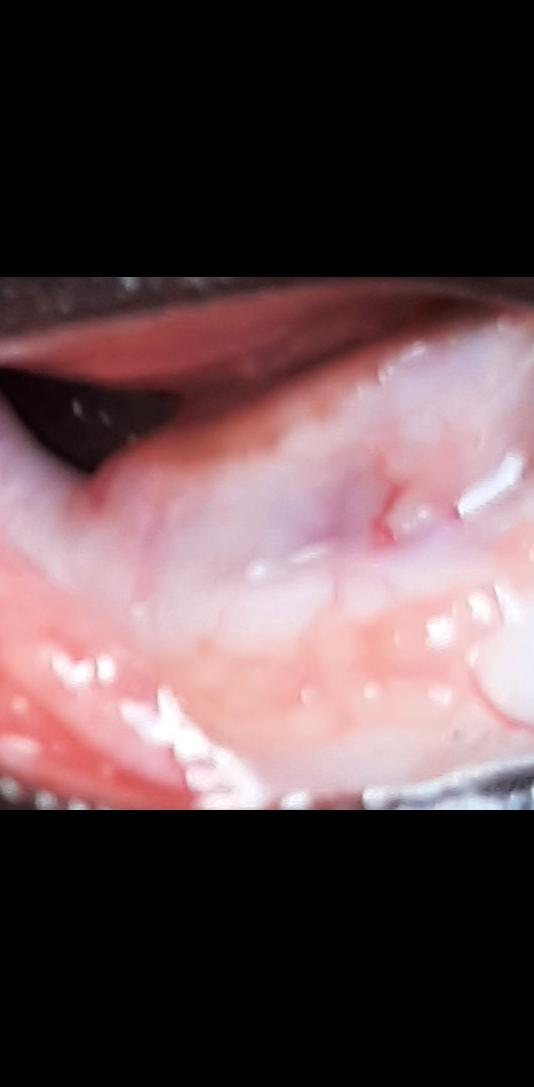eye_membrane: (0, 286, 534, 808)
